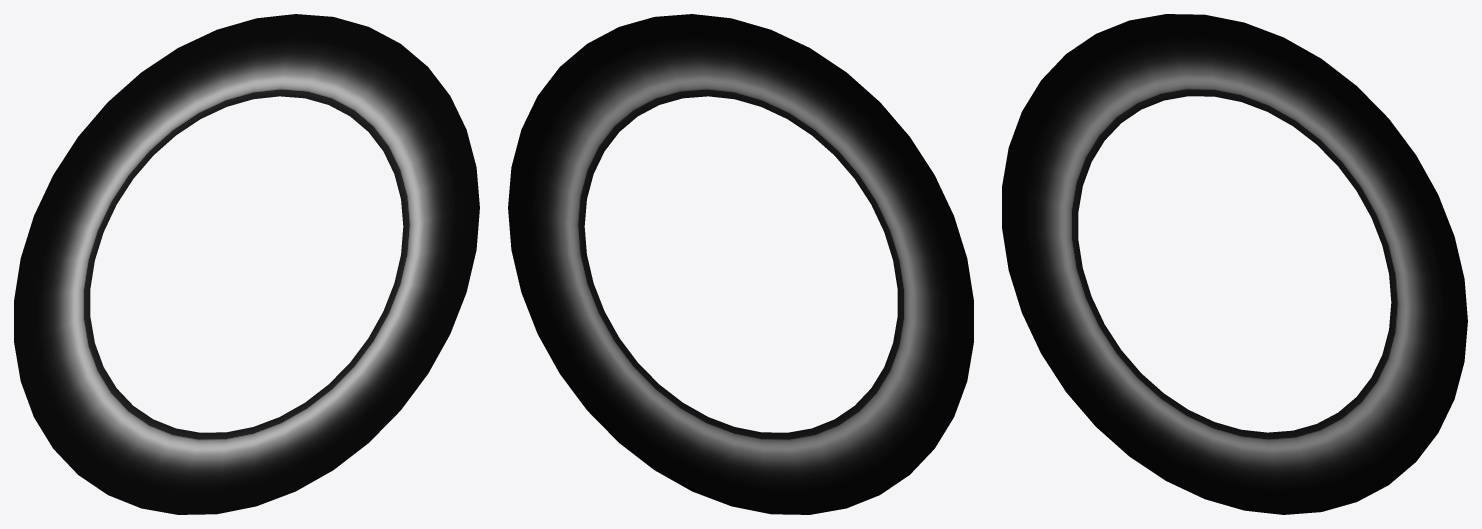
File: pref_fxui_normalatk_flicker.fbx
3 views of the same model, side by side, from view 1: azimuth 30°, elevation 25°; view 2: azimuth 150°, elevation 25°; view 3: azimuth 330°, elevation 25° (orthographic).
Parts seen in each view (by area): view 1: glow; view 2: glow; view 3: glow.
Boxes of the visible parts, left/top/right/bottom form: glow: left=14, top=14, right=479, bottom=514; glow: left=508, top=14, right=973, bottom=514; glow: left=1002, top=14, right=1467, bottom=514.
Size of the model in its own units: 354 by 355 by 4.07e-05.
Materials: 1 (1 with a texture image).
